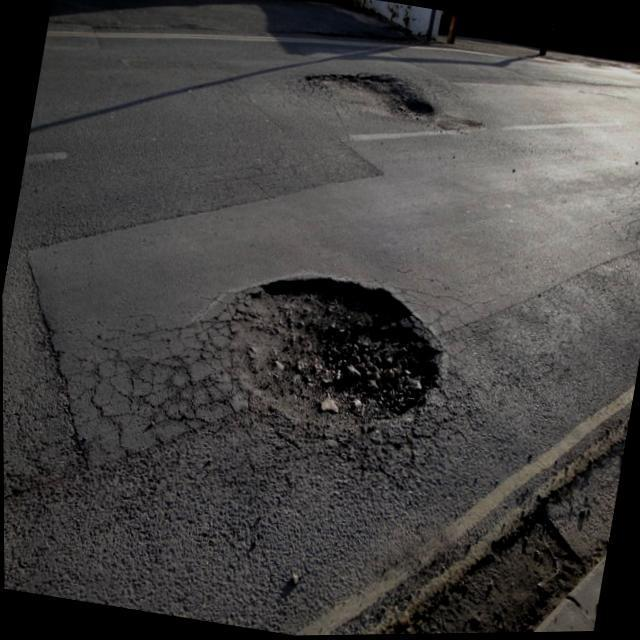Pothole: (230, 278, 442, 419), (300, 72, 440, 129)
